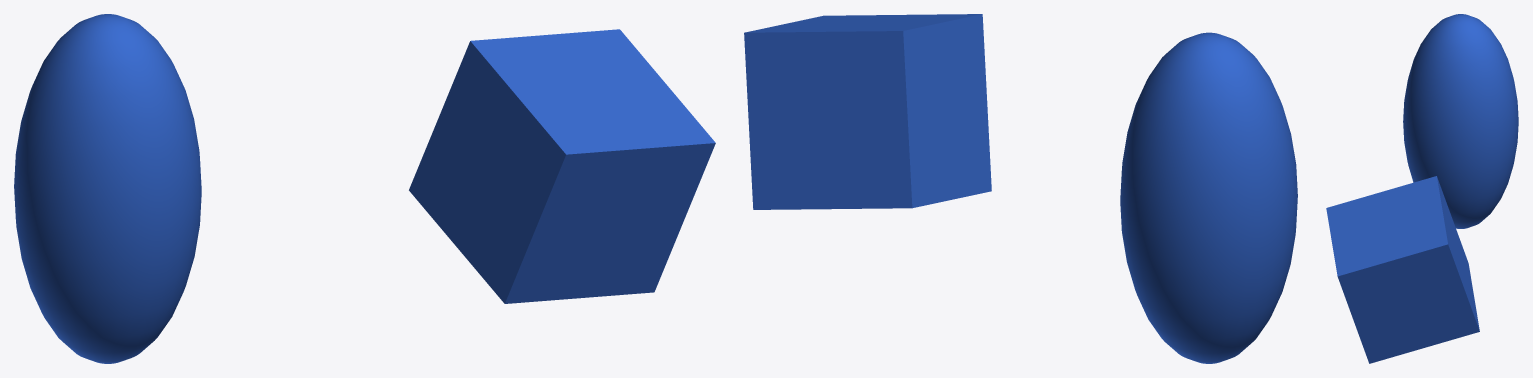
Rendered from groups_triangulated.obj.
3 views of the same model, side by side, from view 1: azimuth 30°, elevation 25°; view 2: azimuth 150°, elevation 25°; view 3: azimuth 270°, elevation 25° (orthographic). The views are drawn at different scales.
Visible parts, largest first — view 1: Cube_Shared, Sphere_Shared; view 2: Sphere_Shared, Cube_Shared; view 3: Cube_Shared, Sphere_Shared.
Part boxes in pixels (left/top/right/bottom): Cube_Shared: left=409, top=29, right=715, bottom=303; Sphere_Shared: left=14, top=14, right=201, bottom=363; Sphere_Shared: left=1120, top=32, right=1297, bottom=363; Cube_Shared: left=744, top=14, right=991, bottom=209; Cube_Shared: left=1326, top=176, right=1479, bottom=363; Sphere_Shared: left=1403, top=14, right=1518, bottom=228.
Bounding box in the file's own units: 7.23 × 4 × 3.33.
